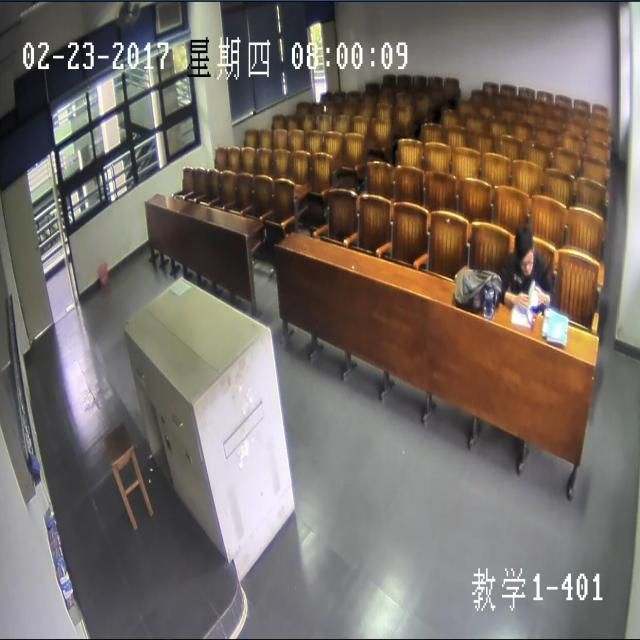person: (515, 224, 535, 276)
